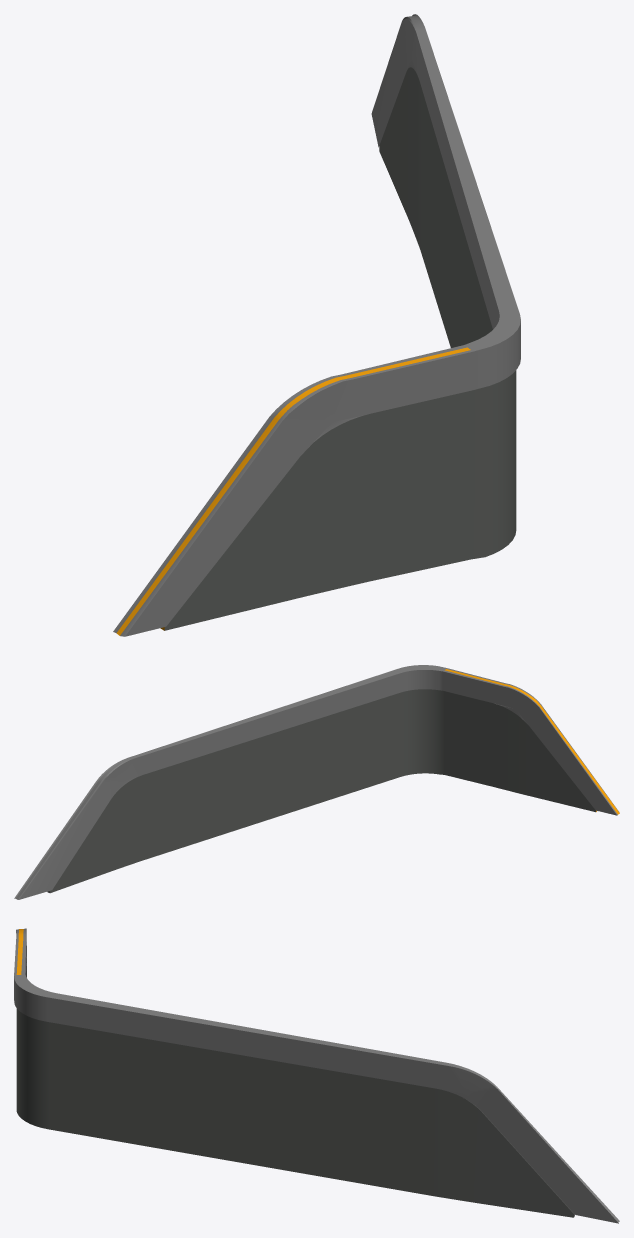
File: SM_FenceLeft.FBX
3 renders of one model, top to bottom at view 1: azimuth 30°, elevation 25°; view 2: azimuth 150°, elevation 25°; view 3: azimuth 270°, elevation 25°, orthographic. The views are drawn at different scales.
Parts seen in each view (by area): view 1: SM_FenceLeft_LOD0; view 2: SM_FenceLeft_LOD0; view 3: SM_FenceLeft_LOD0.
Boxes of the visible parts, x1=… form: SM_FenceLeft_LOD0: x1=113, y1=14, x2=520, y2=636; SM_FenceLeft_LOD0: x1=14, y1=665, x2=619, y2=899; SM_FenceLeft_LOD0: x1=14, y1=928, x2=619, y2=1223.
Size of what is drawn, in the model's own units: 582 by 159 by 655.
